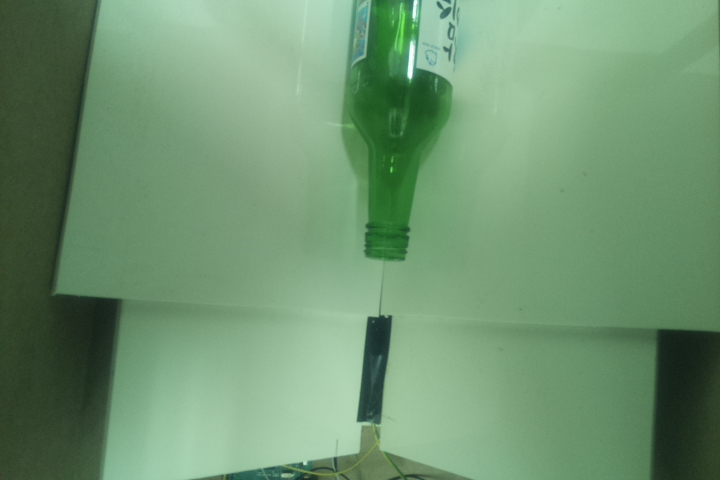soju: (343, 1, 467, 263)
